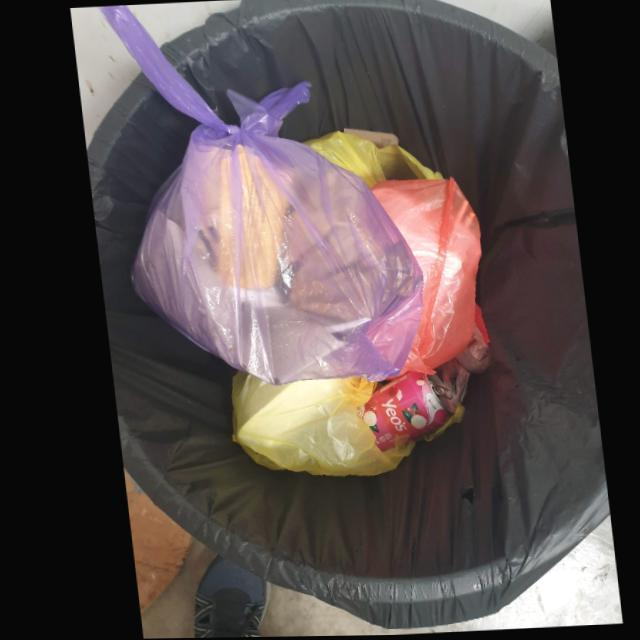metal: (349, 372, 445, 453)
plastic: (93, 5, 419, 388), (367, 179, 477, 375), (224, 372, 408, 478), (304, 131, 433, 191)
